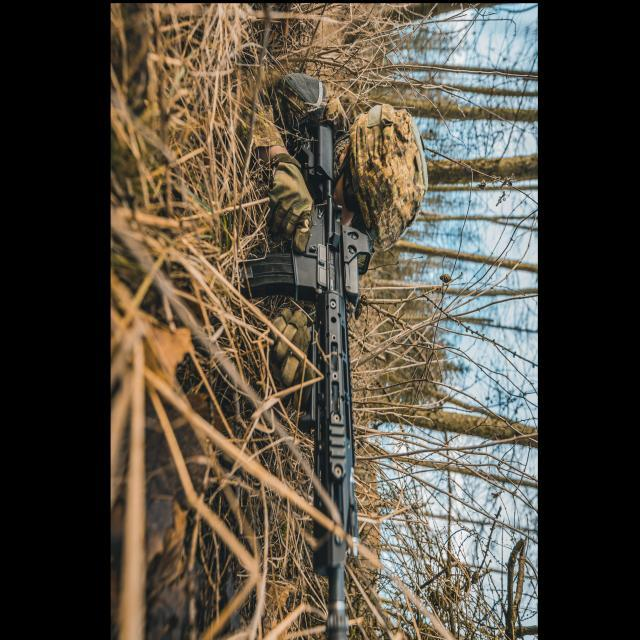weapon: (246, 126, 371, 640)
